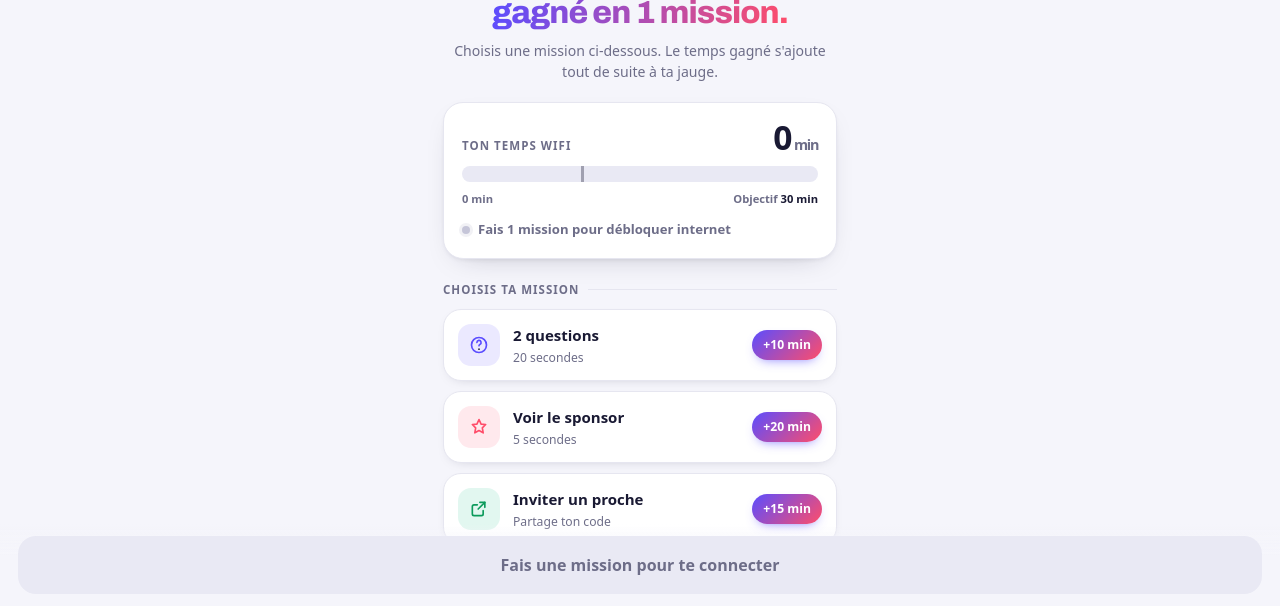
it: faire le quiz crédite +10 min sur la jauge
Step 1. Click the button "2 questions 20 secondes +10 min" → click(479, 345), box [443,309,837,381]
Wait 2 ms
(page scrolled)
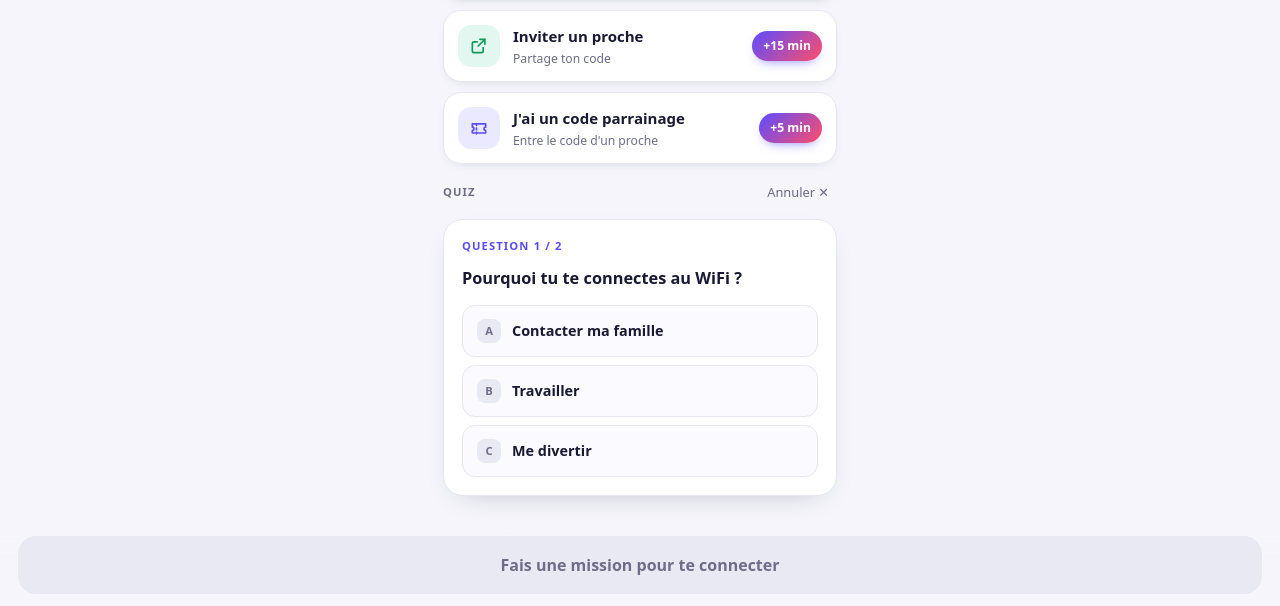
Now the element with test id "mission-runner" is shown, box [443,178,837,496]
Now the text "Pourquoi tu te connectes au WiFi ?" is shown, box [462,267,742,289]
Step 2. Click the button with test id "quiz-option" showing "A Contacter ma famille" → click(640, 331), box [462,305,818,357]
Wait 751 ms
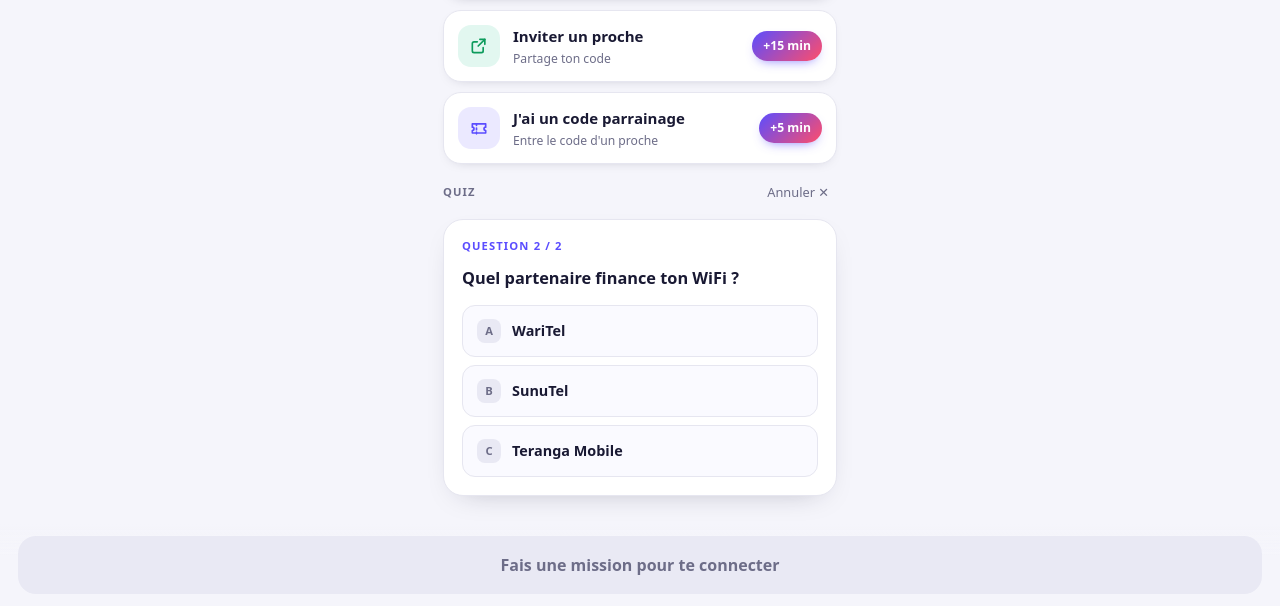
Step 3. Click the button with test id "quiz-option" showing "A WariTel" → click(539, 331), box [462,305,818,357]
Wait 701 ms
(page scrolled)
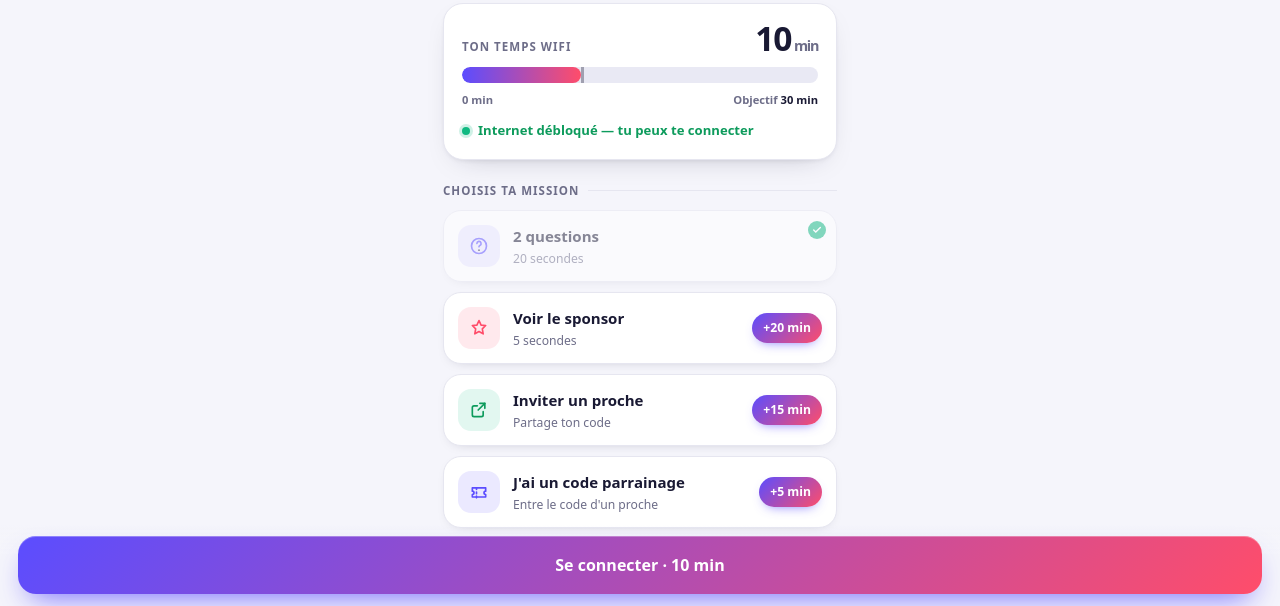
Now the element with test id "ec-num" shows "10", box [755,22,818,55]
